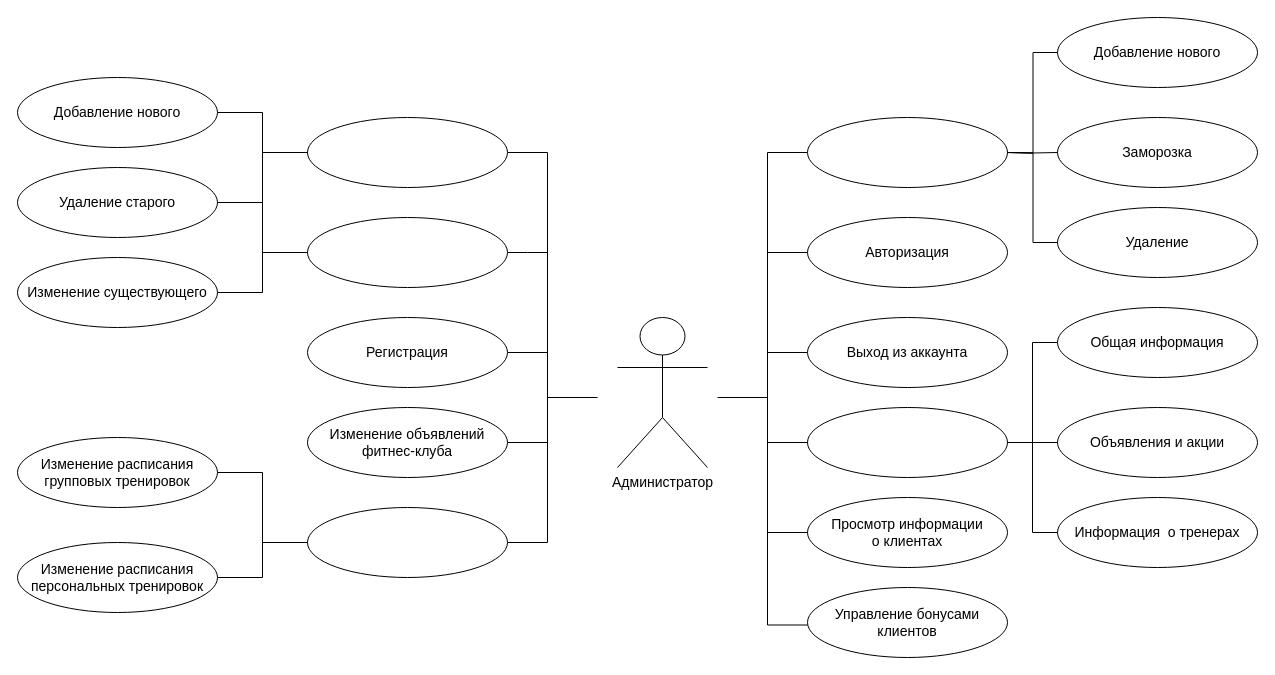
The diagram is 1275 pixels wide and 675 high, and some of its shapes have lost their labels. The centre of each missing label's shape, as x and y in pixels:
"Изменение абонементов клиентов" belongs at (x=907, y=152).
"Изменение информации о клиентах" belongs at (x=407, y=152).
"Изменение информации о тренерах" belongs at (x=407, y=252).
"Изменение расписания" belongs at (x=407, y=542).
"Просмотр информации о фитнес-клубе" belongs at (x=907, y=442).
